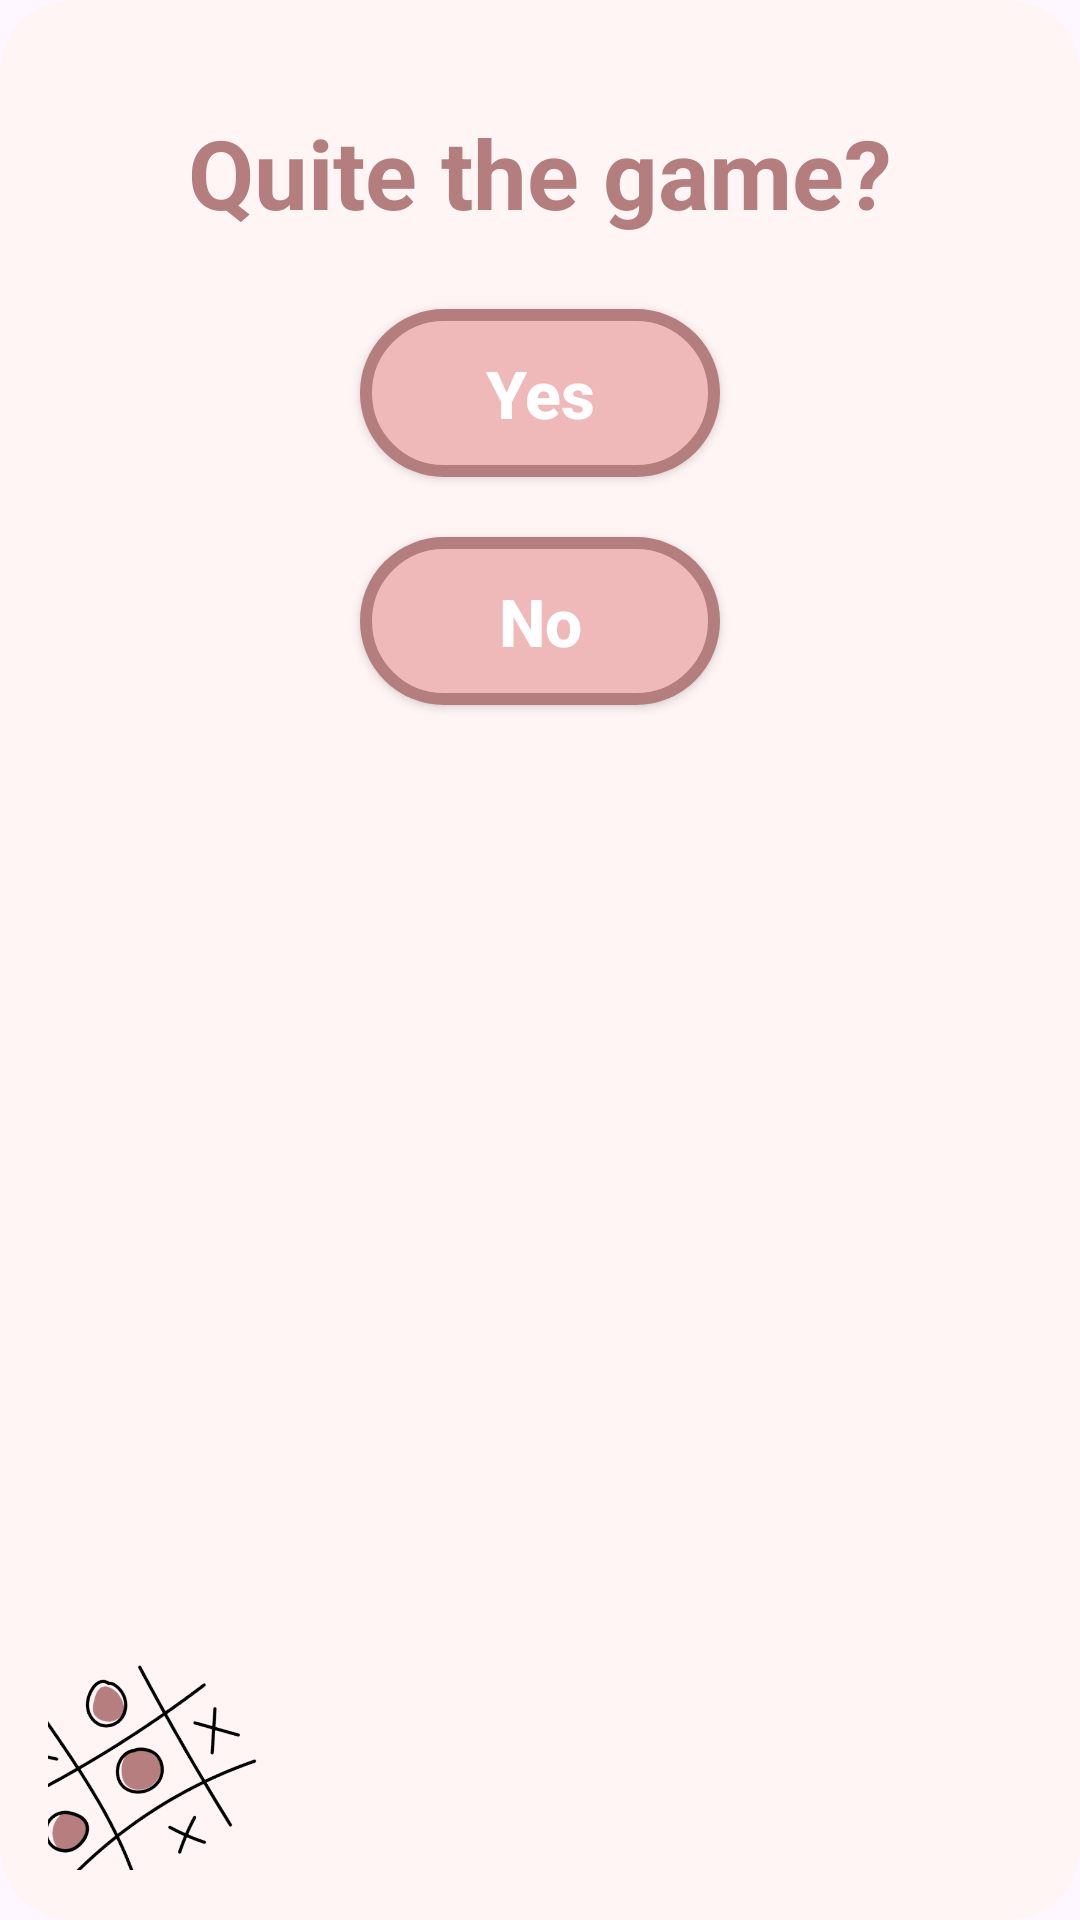

Named icons in this screenshot (1080w x 1920h) and their bounding boxes, bbox=(x1, y1, x2, y2):
game diaog: bbox=(48, 1665, 256, 1870)
